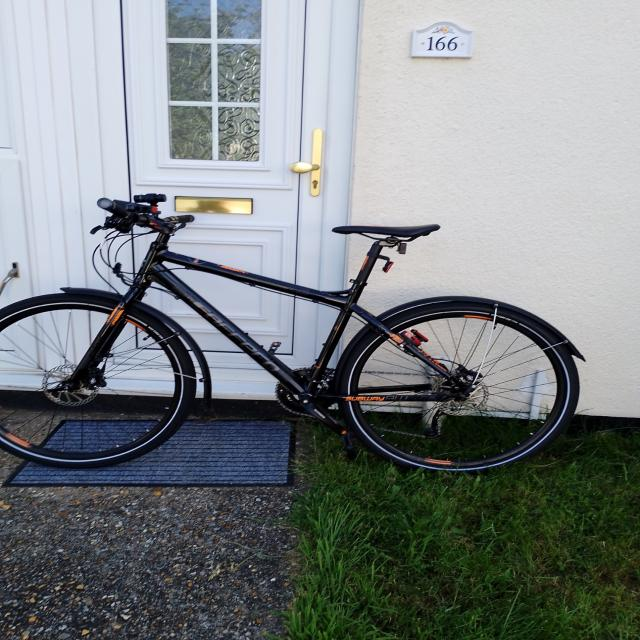bicycle: (0, 192, 586, 472)
